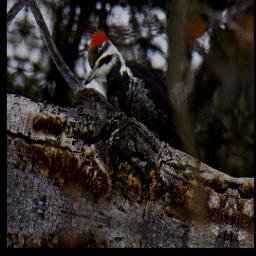Woodpecker: (78, 24, 197, 150)
